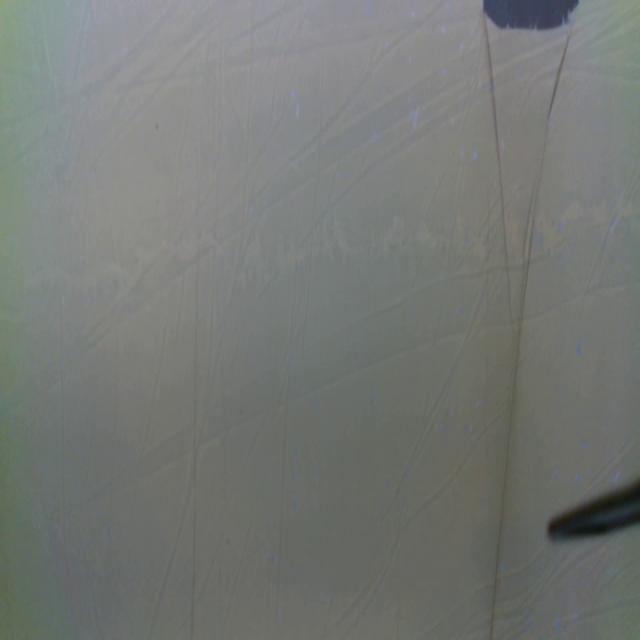crease: (500, 33, 572, 505), (481, 27, 515, 330), (188, 222, 202, 640), (489, 508, 504, 640)
hole: (483, 0, 582, 33)
